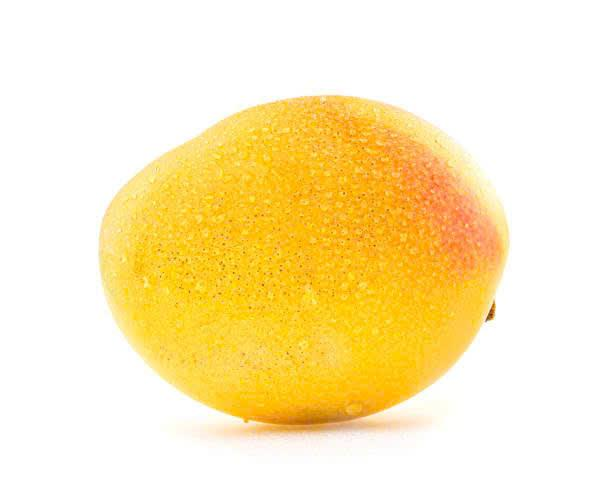mango: (80, 86, 520, 440)
